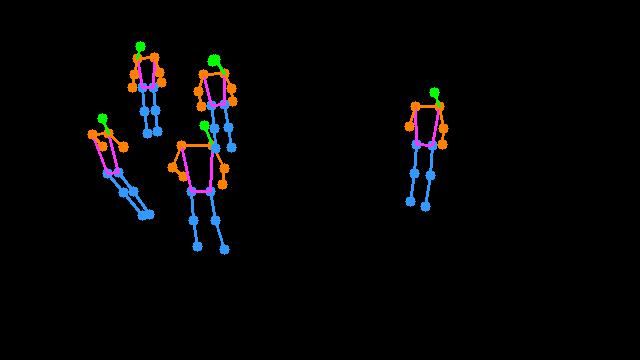normal: (75, 34, 261, 272)
